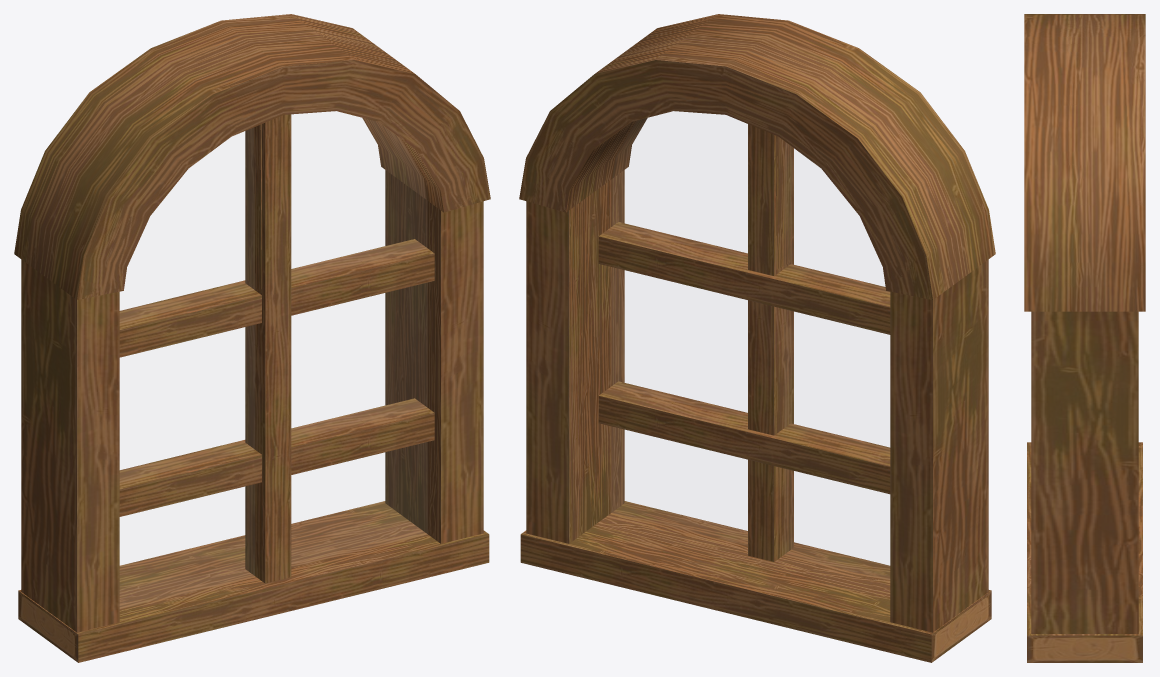
File: Window_Wide_Round3.gltf
3 views of the same model, side by side, from view 1: azimuth 30°, elevation 25°; view 2: azimuth 150°, elevation 25°; view 3: azimuth 270°, elevation 25° (orthographic). The views are drawn at different scales.
Visible parts, largest first — view 1: Window_Wide_Round3; view 2: Window_Wide_Round3; view 3: Window_Wide_Round3.
Boxes of the visible parts, bbox=[...] form: Window_Wide_Round3: bbox=[14, 14, 490, 662]; Window_Wide_Round3: bbox=[519, 14, 995, 662]; Window_Wide_Round3: bbox=[1024, 14, 1145, 662].
Size of the model in its own units: 1.36 by 1.73 by 0.3591.
Materials: 2 (1 with a texture image).
